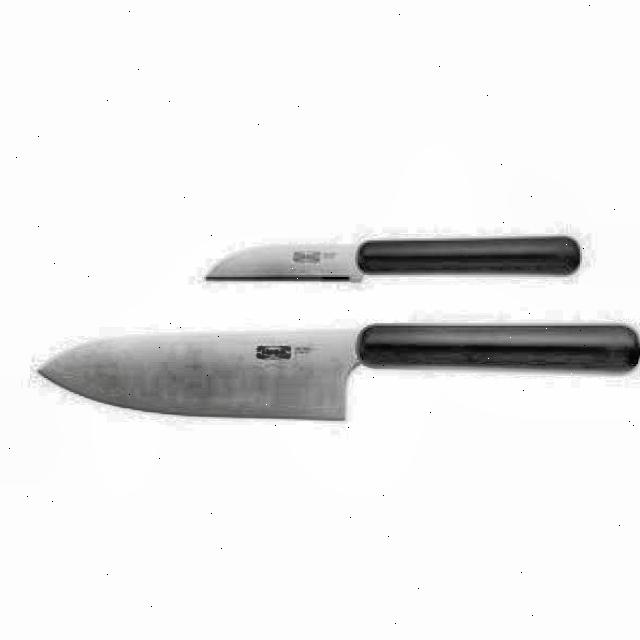knife: (32, 321, 640, 423), (202, 229, 590, 292)
